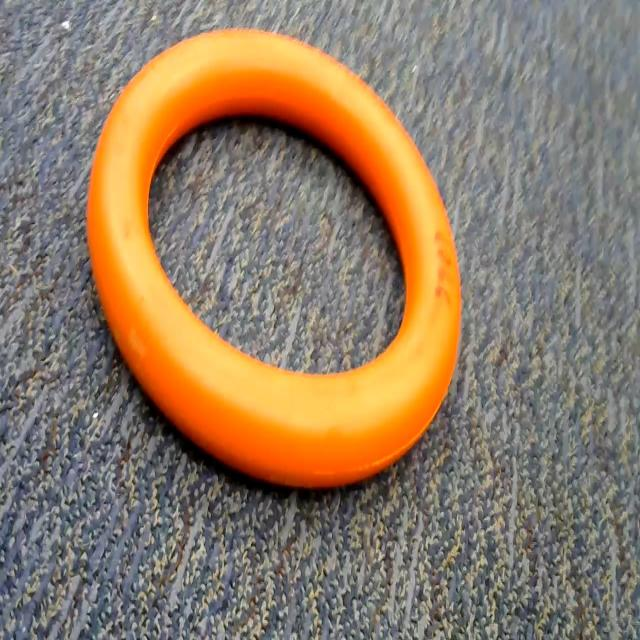note: (74, 0, 482, 513)
